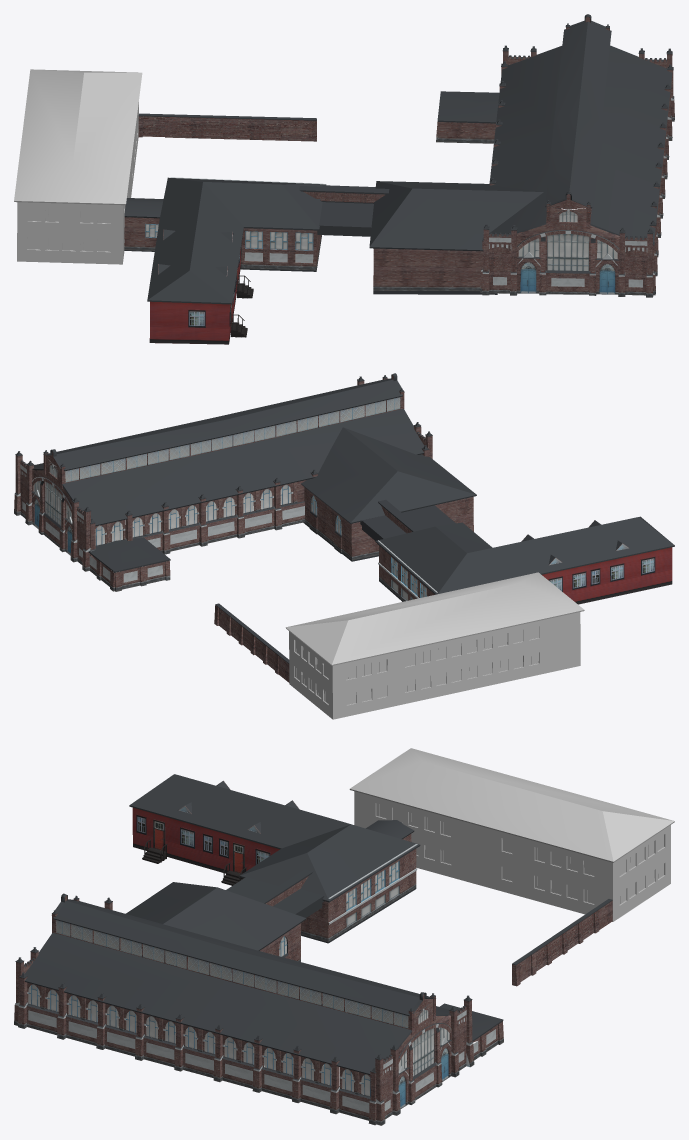
File: Kauppatori.fbx
3 renders of one model, top to bottom at view 1: azimuth 30°, elevation 25°; view 2: azimuth 150°, elevation 25°; view 3: azimuth 270°, elevation 25°, orthographic. The views are drawn at different scales.
Parts seen in each view (by area): view 1: rantakatu_7_markethall; view 2: rantakatu_7_markethall; view 3: rantakatu_7_markethall.
Part boxes in pixels (x1,y1,x2,y2): rantakatu_7_markethall: (14,14,674,344); rantakatu_7_markethall: (14,373,674,719); rantakatu_7_markethall: (14,748,674,1125).
Bounding box in the file's own units: 8114 × 7173 × 1280.
